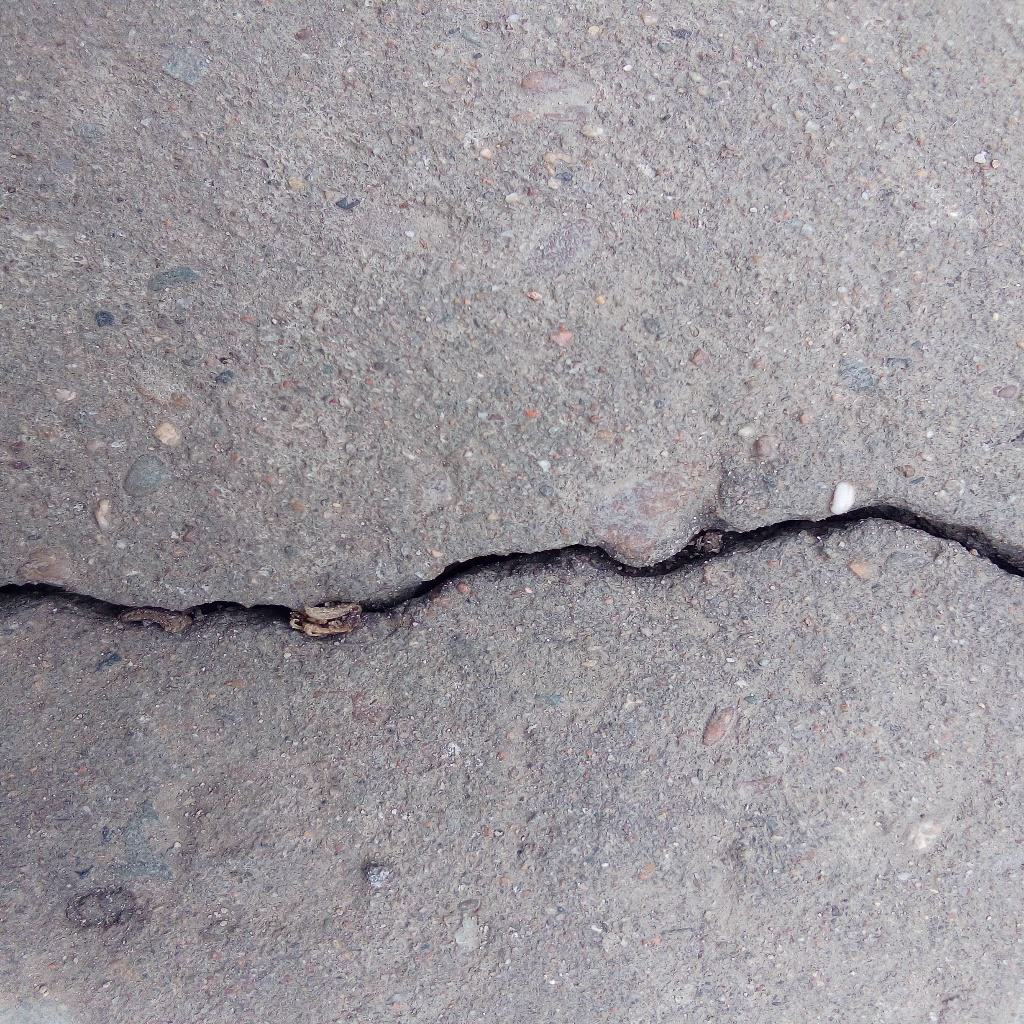Crack: (1, 501, 1024, 639)
